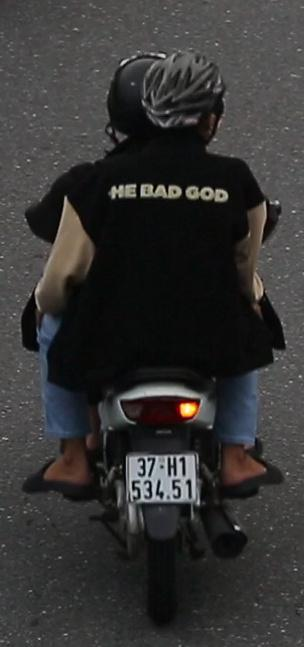LP: (124, 449, 201, 506)
helmet: (138, 46, 231, 160)
